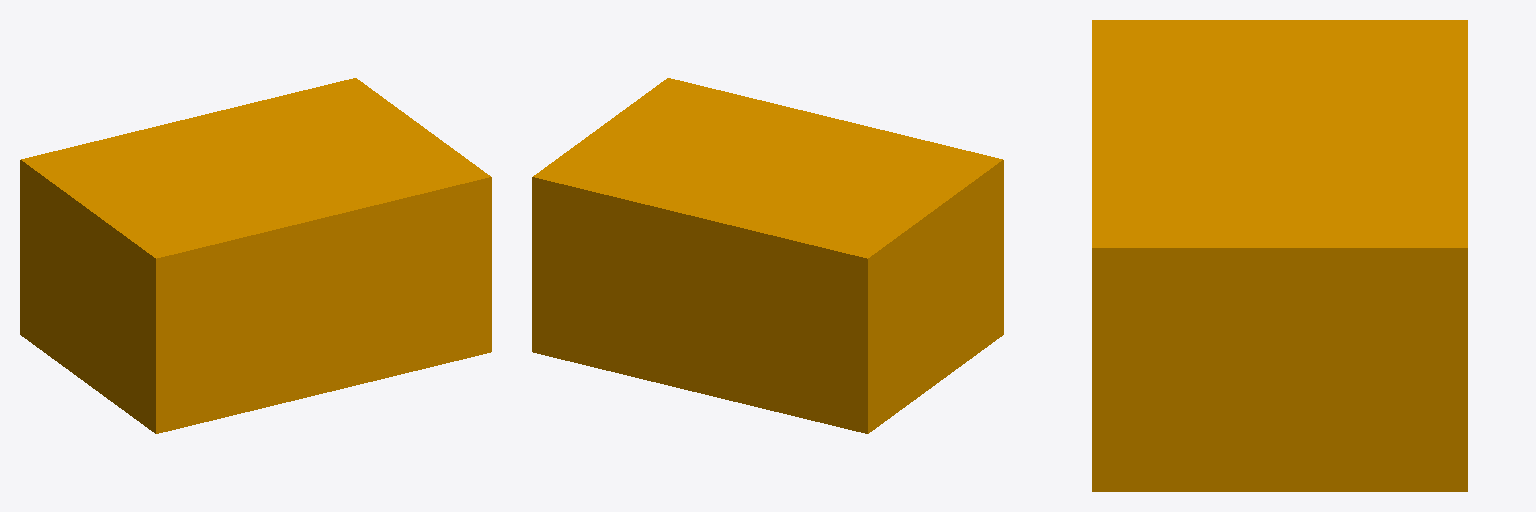
URDF robot description (2x2):
<?xml version='1.0' encoding='UTF-8'?>
<robot name="2x2">
  <link name="base_link">
    <inertial>
      <origin xyz="0.0 0.0 0.0" rpy="0.0 0.0 0.0"/>
      <mass value="0.01"/>
      <inertia ixx="0.1" ixy="0.0" ixz="0.0" iyy="0.1" iyz="0.0" izz="0.1"/>
    </inertial>
    <visual>
      <geometry>
        <box size="0.03  0.021 0.015"/>
      </geometry>
      <material name=""/>
      <origin xyz="0.0 0.0 0.0" rpy="0.0 0.0 0.0"/>
    </visual>
    <collision>
      <geometry>
        <box size="0.03  0.021 0.015"/>
      </geometry>
      <origin xyz="0.0 0.0 0.0" rpy="0.0 0.0 0.0"/>
    </collision>
  </link>
  <material name="">
    <color rgba="0.793 0.926 0.423 1.   "/>
  </material>
  <contact>
    <lateral_friction value="1.0"/>
    <rolling_friction value="0.0"/>
    <contact_cfm value="0.0"/>
    <contact_erp value="1.0"/>
  </contact>
</robot>

--- Facts derived from the render (not from the file) ---
Views: 3 orthographic renders of the robot side by side, from view 1: azimuth 30°, elevation 25°; view 2: azimuth 150°, elevation 25°; view 3: azimuth 270°, elevation 25°.
Robot: 2x2 — 1 links, 0 joints (none); root link base_link; default pose: every joint at zero.
Links seen in each view (by area): view 1: base_link; view 2: base_link; view 3: base_link.
Link boxes in pixels (box(x1,y1,x2,y2)): base_link: box(20, 78, 491, 433); base_link: box(532, 78, 1003, 433); base_link: box(1092, 20, 1467, 491).
Size in the robot's own frame: 0.03 by 0.021 by 0.015 metres.
Geometry: primitives only (box / cylinder / sphere), no mesh files.